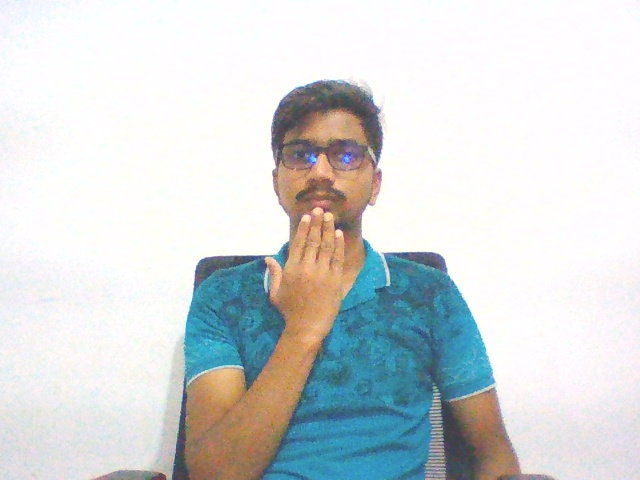mango: (256, 199, 352, 353)
